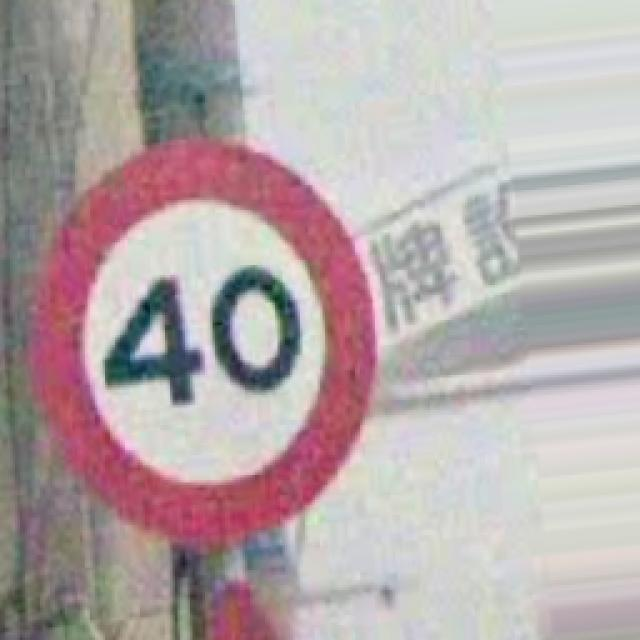Speed Limit -40-: (30, 142, 375, 542)
